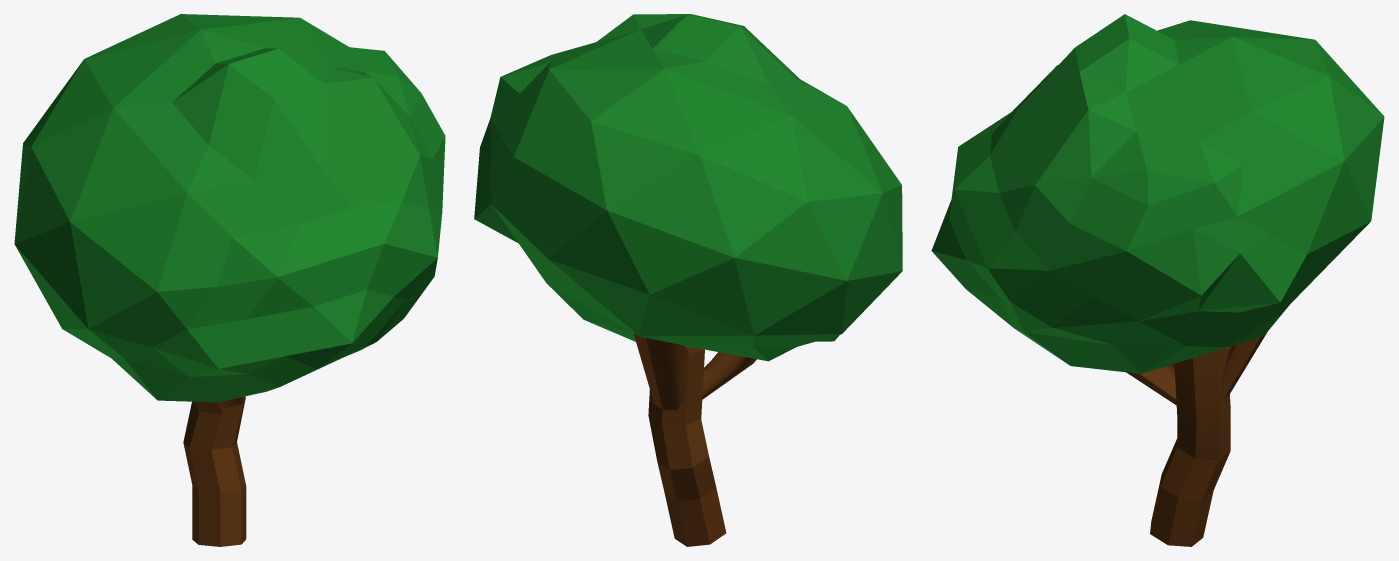
File: Arbol.fbx
3 renders of one model, left to right at view 1: azimuth 30°, elevation 25°; view 2: azimuth 150°, elevation 25°; view 3: azimuth 270°, elevation 25°, orthographic. The views are drawn at different scales.
Visible parts, largest first — view 1: Cylinder.001; view 2: Cylinder.001; view 3: Cylinder.001.
Part boxes in pixels (x1,y1,x2,y2): Cylinder.001: (14,14,445,546); Cylinder.001: (474,14,902,546); Cylinder.001: (931,14,1384,546).
Bounding box in the file's own units: 1116 × 1390 × 1104.
